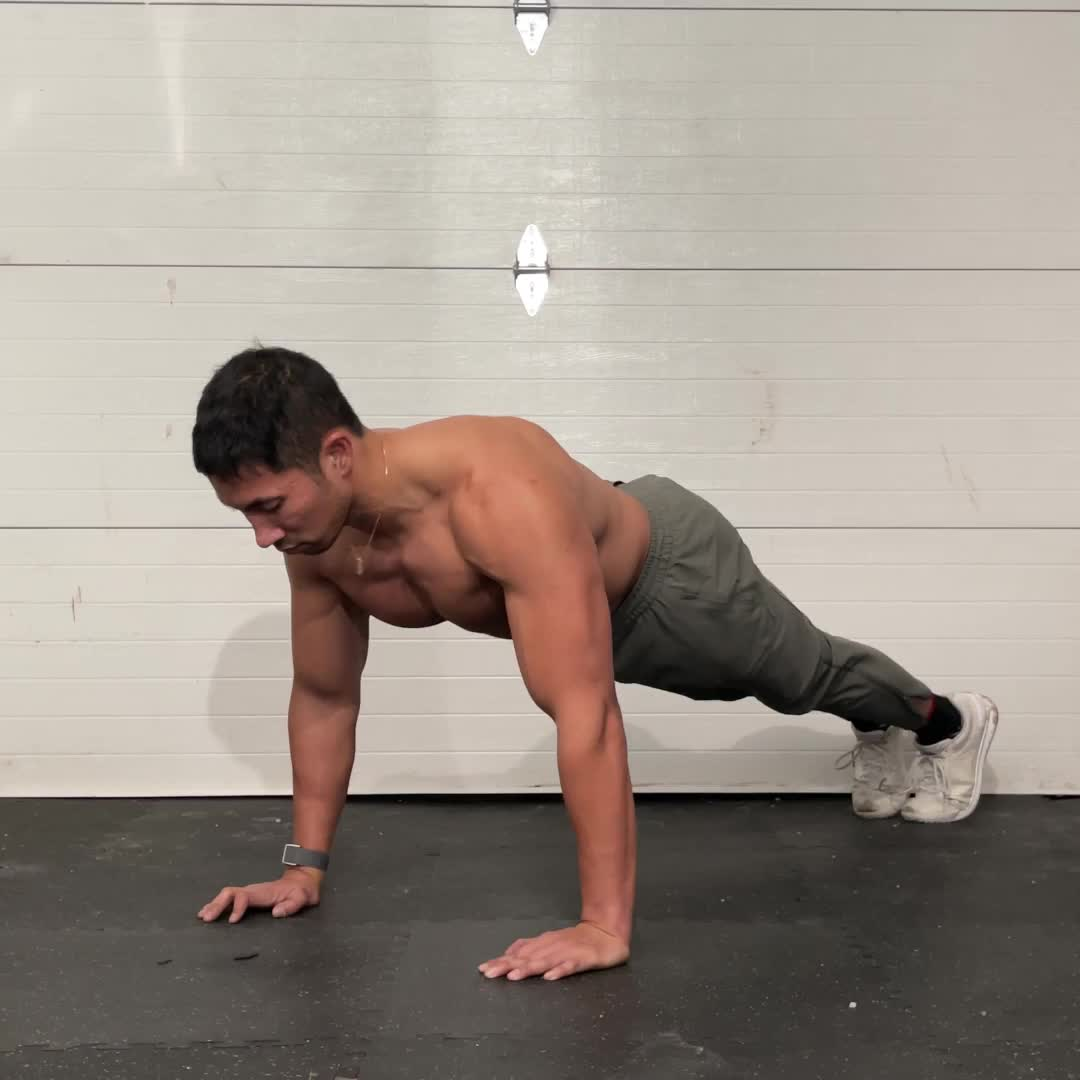up: (191, 344, 996, 978)
